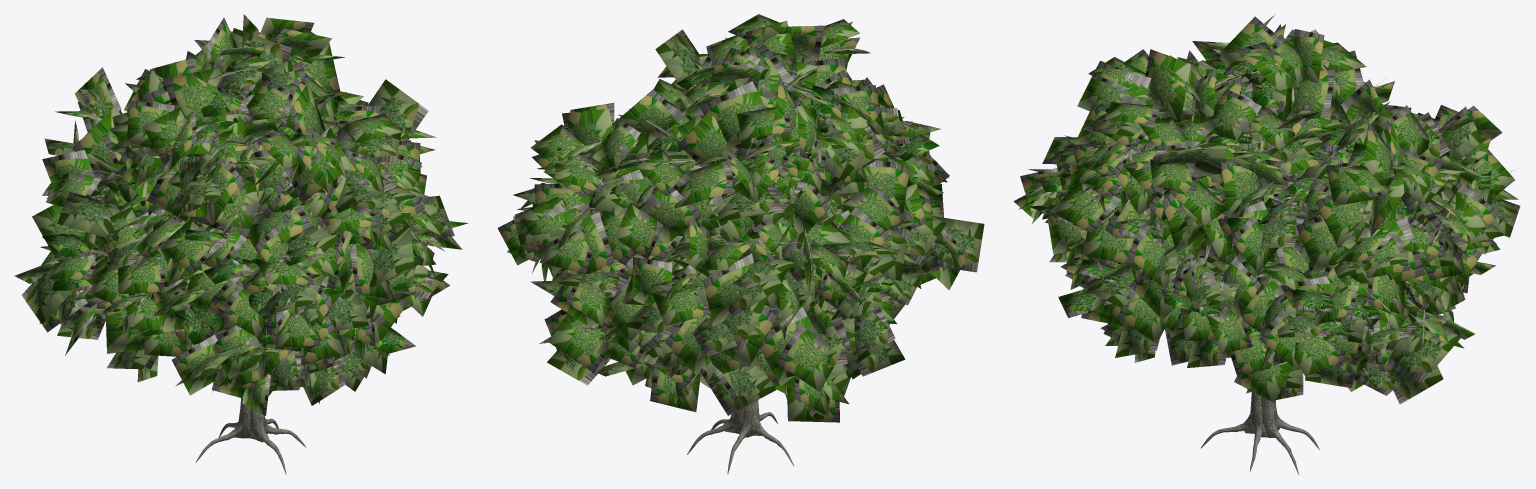
File: Tree_04.fbx
3 views of the same model, side by side, from view 1: azimuth 30°, elevation 25°; view 2: azimuth 150°, elevation 25°; view 3: azimuth 270°, elevation 25° (orthographic).
Parts seen in each view (by area): view 1: LOD0; view 2: LOD0; view 3: LOD0.
Part boxes in pixels (x1,y1,x2,y2): LOD0: (14,14,468,474); LOD0: (497,14,984,474); LOD0: (1013,14,1520,474).
Size of the model in its own units: 1444 by 1462 by 1608.
